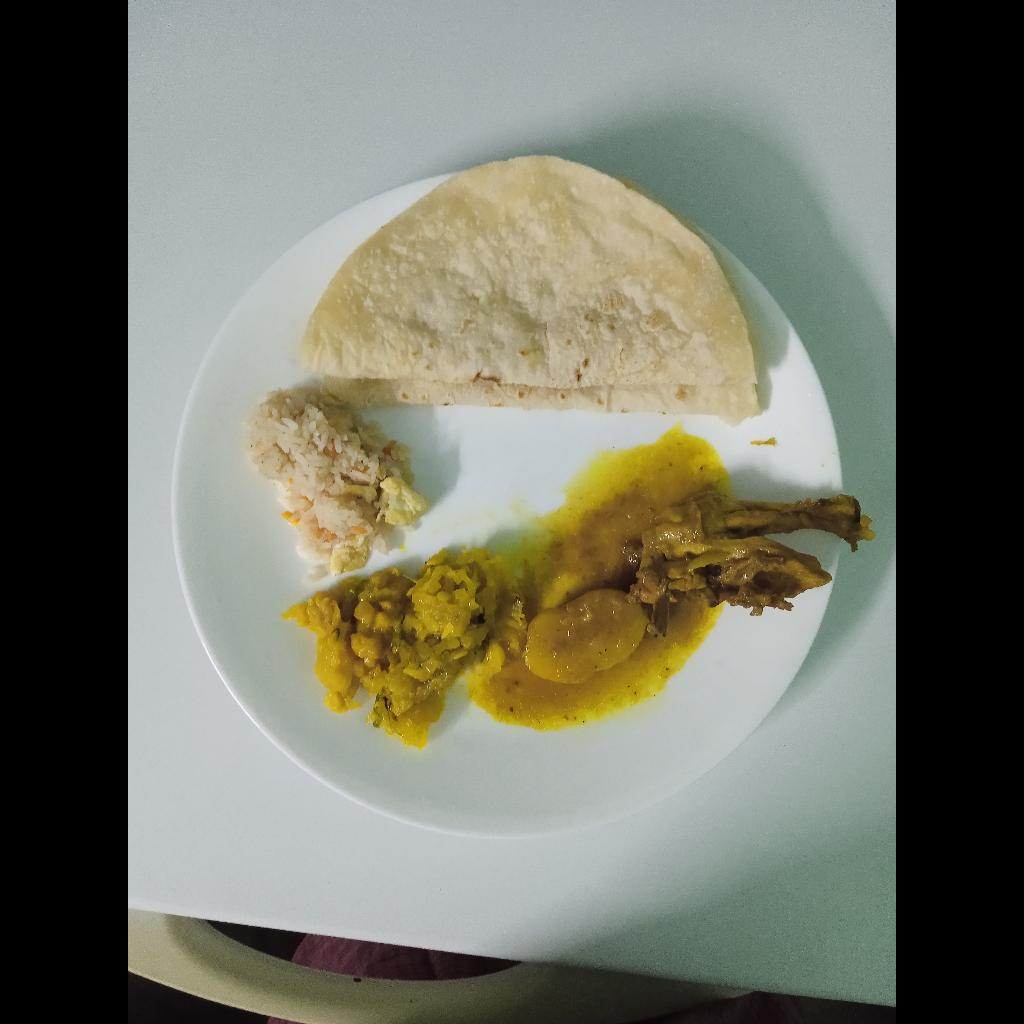cabbage: (278, 547, 527, 751)
chicken: (631, 489, 876, 638)
potato: (523, 590, 650, 683)
rice: (242, 388, 428, 582)
ruti: (300, 154, 764, 431)
